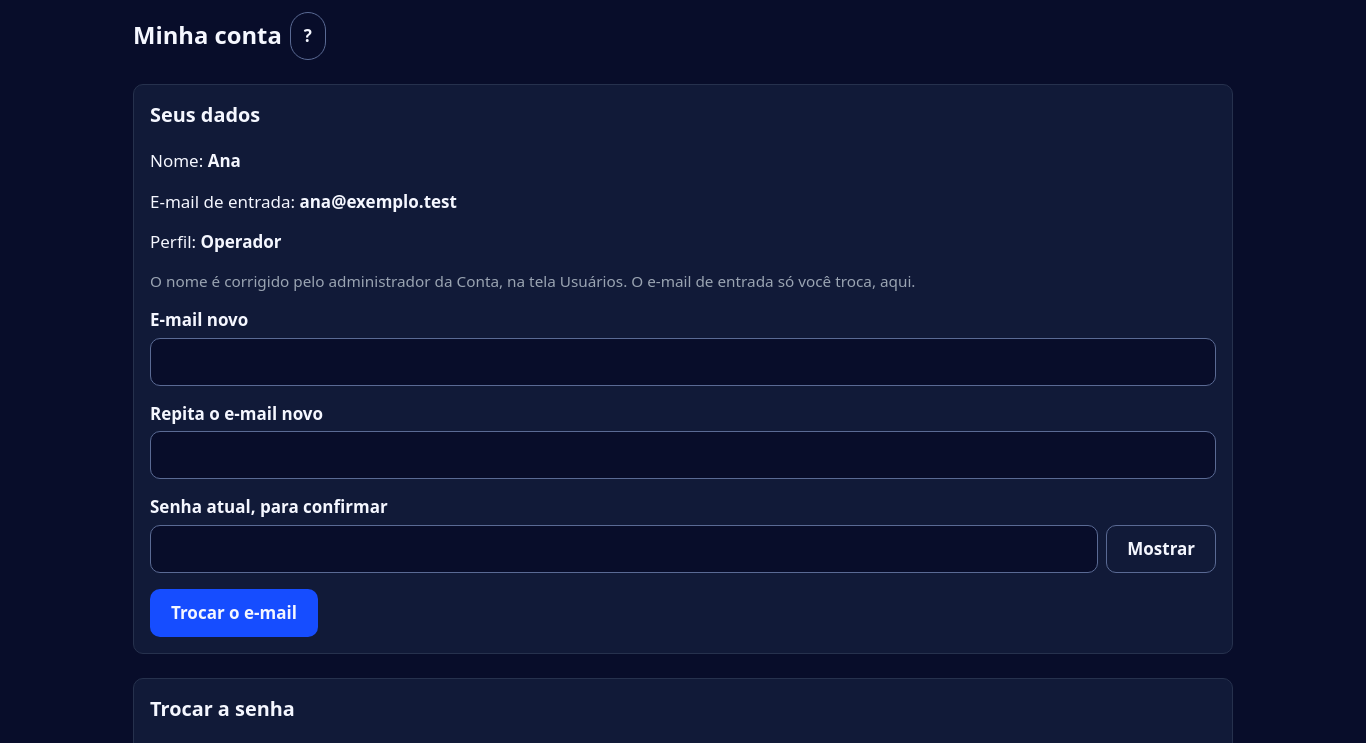
TelaDaSenha › a senha atual errada na troca do e-mail mostra a recusa do servidor e mantém o e-mail
Expected: the text "ana@exemplo.test" is shown, x1=299 y1=190 x2=457 y2=212
Type "outro@exemplo.test" into the field labelled "E-mail novo". click: (683, 362)
box: x1=150 y1=338 x2=1216 y2=386
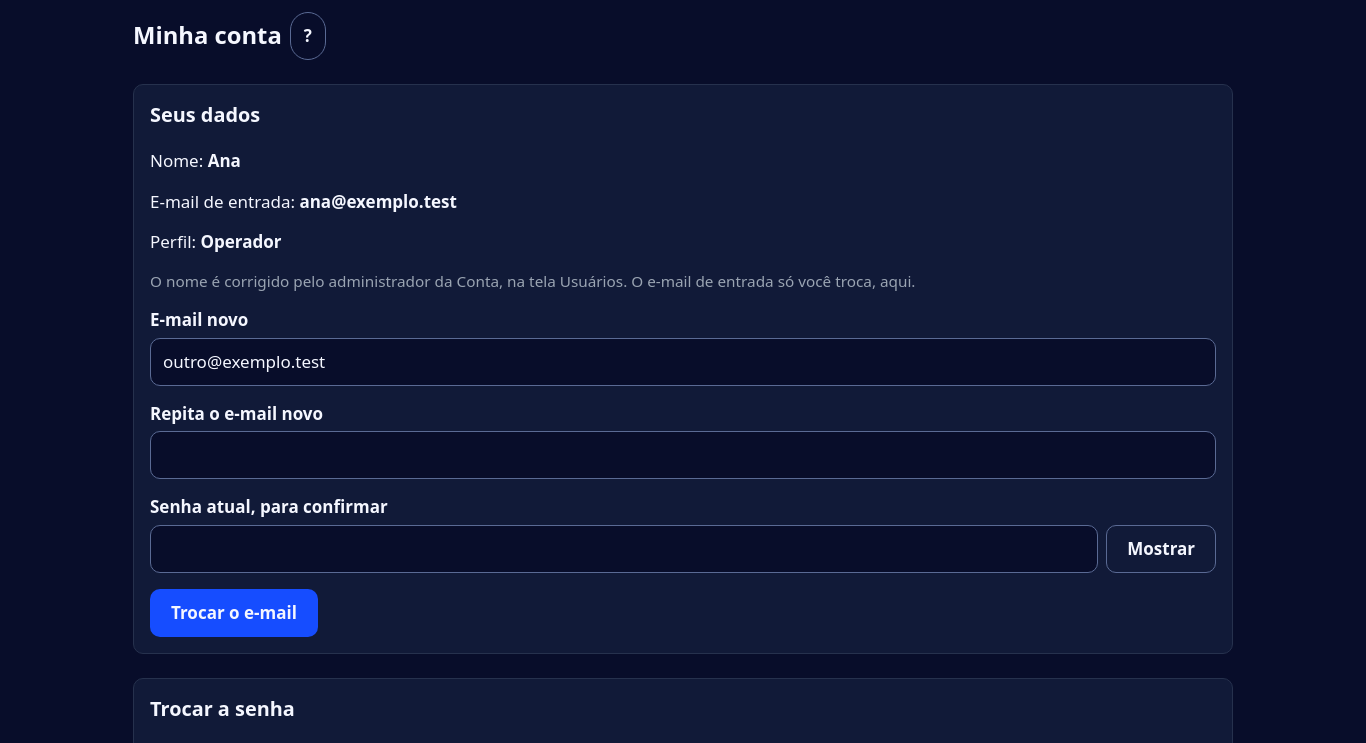
Type "outro@exemplo.test" into the field labelled "Repita o e-mail novo". click: (683, 455)
box: x1=150 y1=431 x2=1216 y2=479
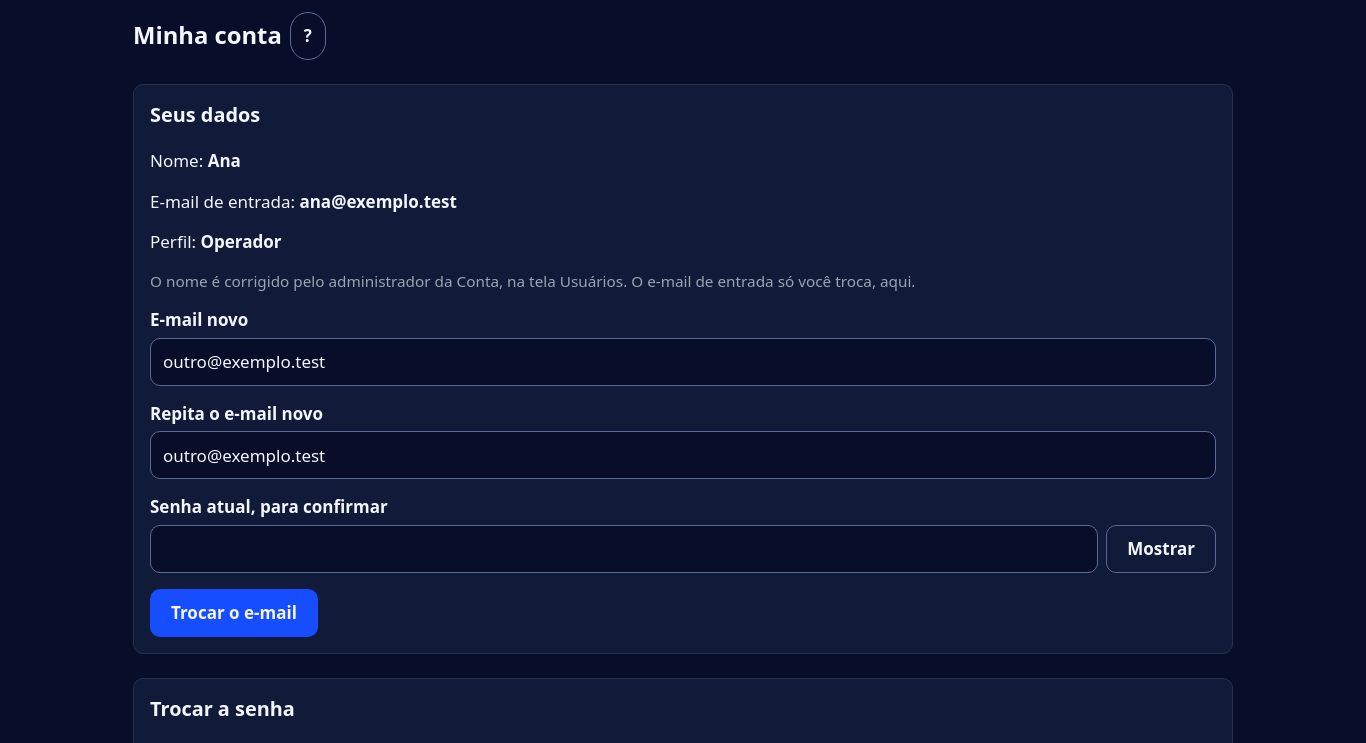
Type "errada" into the password field labelled "Senha atual, para confirmar". click: (624, 549)
box: x1=150 y1=525 x2=1098 y2=573
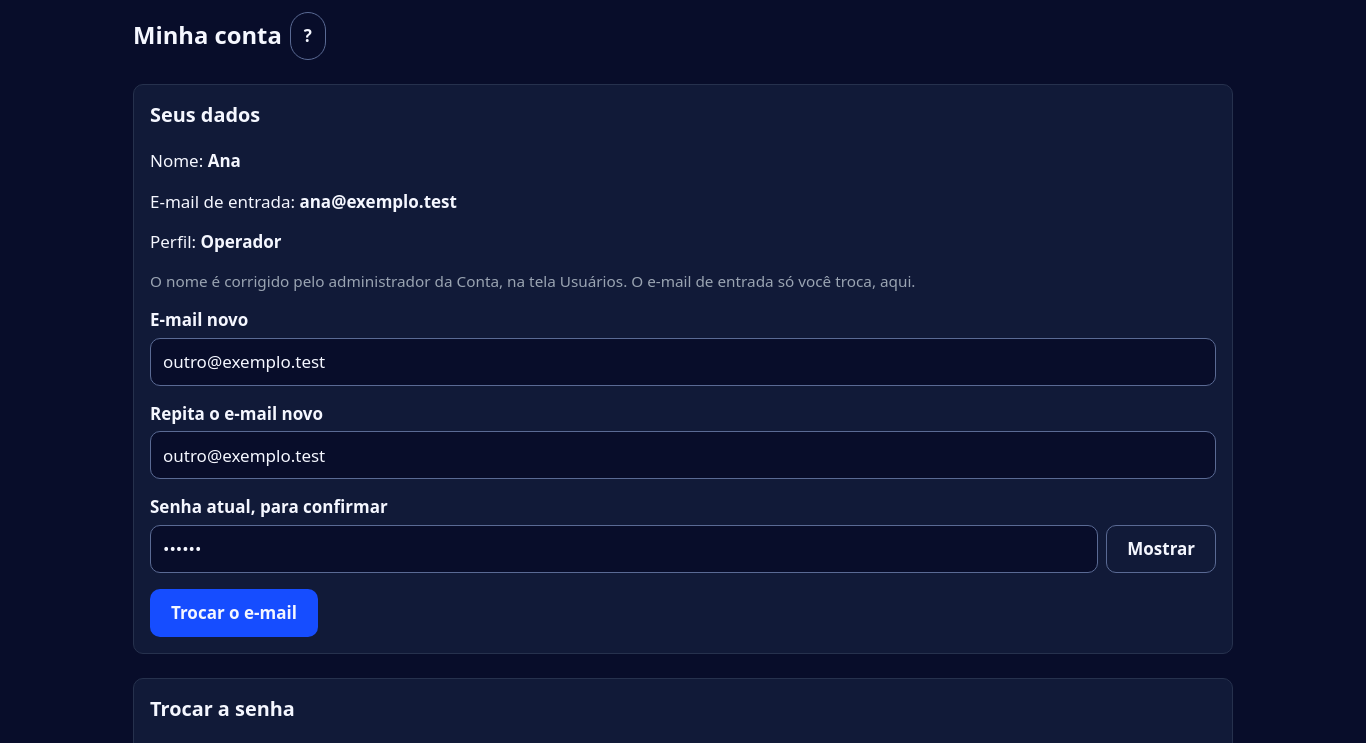
Click the button "Trocar o e-mail". click: (234, 613)
box: x1=150 y1=589 x2=318 y2=637
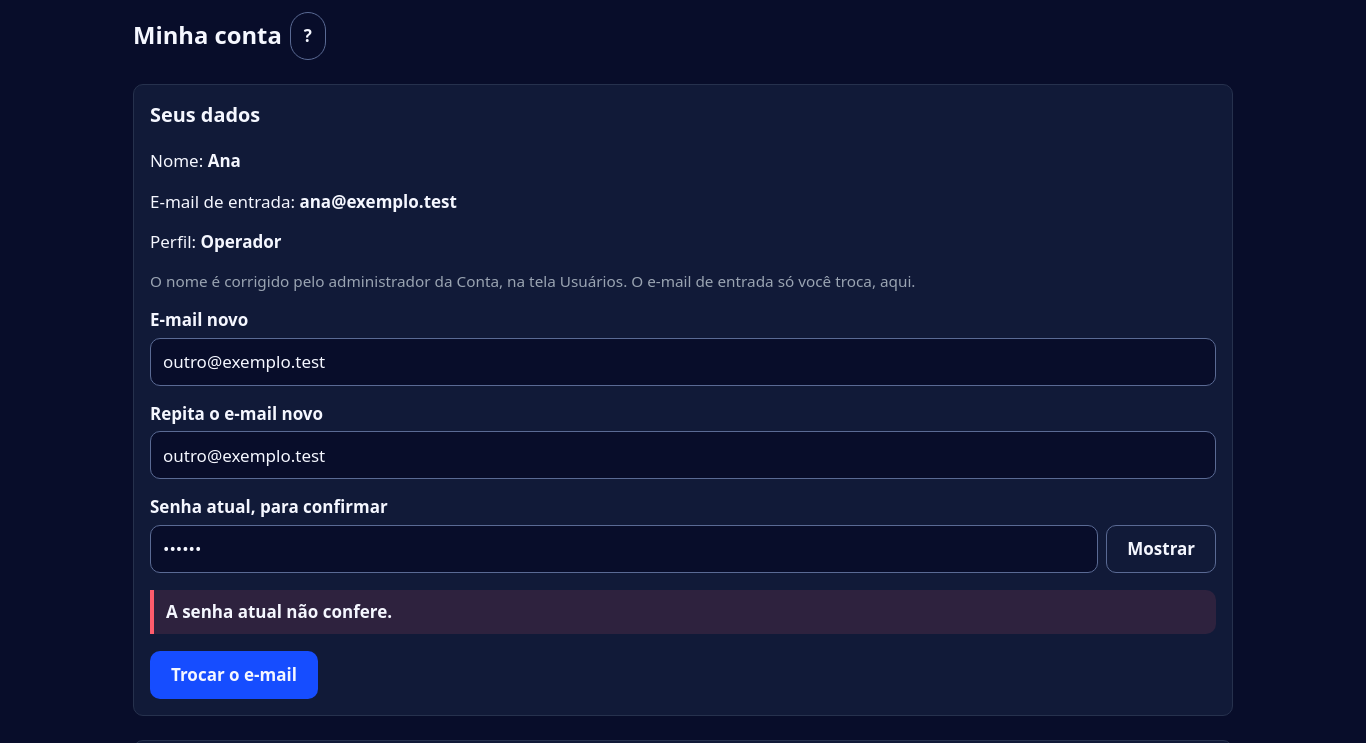
Expected: the text "ana@exemplo.test" is shown, x1=299 y1=190 x2=457 y2=212
Expected: the message reads "A senha atual não confere.", x1=166 y1=600 x2=392 y2=623
